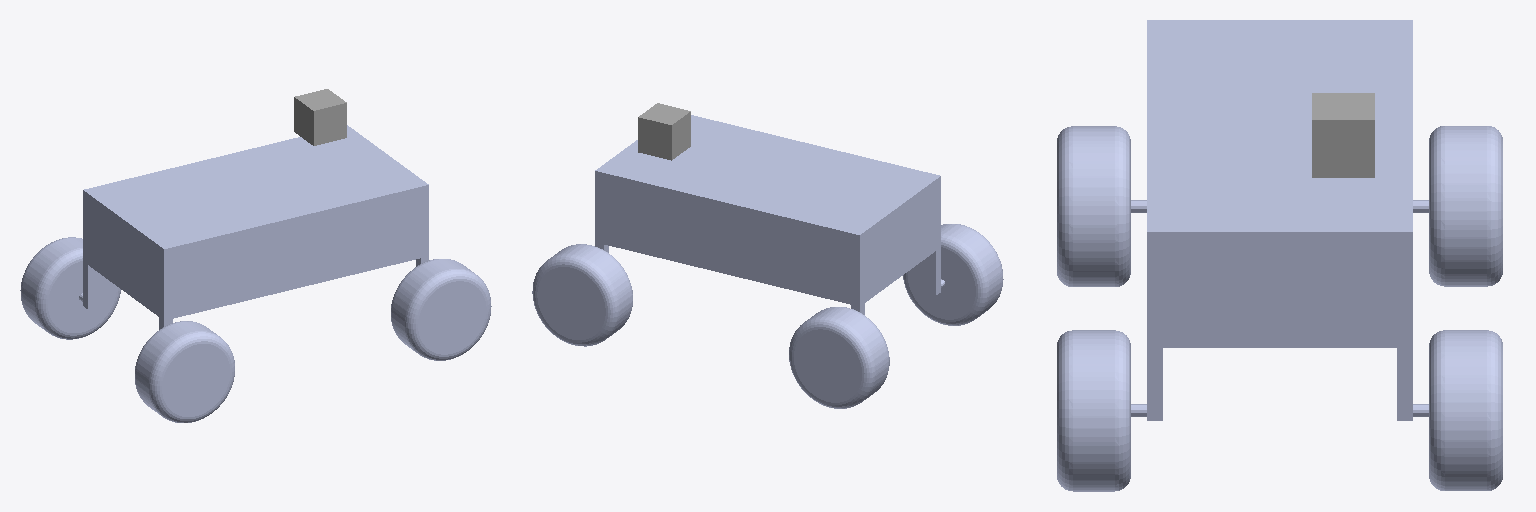
URDF robot description (rover_autonav):
<?xml version="1.0" encoding="utf-8"?>
<!-- This URDF was automatically created by SolidWorks to URDF Exporter! Originally created by [author] ([email redacted]) 
     Commit Version: 1.6.0-1-g15f4949  Build Version: 1.6.7594.29634
     For more information, please see http://wiki.ros.org/sw_urdf_exporter -->
<robot
  name="rover_autonav">
  <link
    name="base_link">
    <inertial>
      <origin
        xyz="-2.2204E-16 3.8858E-16 -0.10299"
        rpy="0 0 0" />
      <mass
        value="46" />
      <inertia
        ixx="1.2576"
        ixy="-8.9345E-15"
        ixz="1.1652E-14"
        iyy="3.7875"
        iyz="-2.6748E-15"
        izz="4.548" />
    </inertial>
    <visual>
      <origin
        xyz="0 0 0"
        rpy="0 0 0" />
      <geometry>
        <mesh
          filename="package://rover_autonav/meshes/base_link.STL" />
      </geometry>
      <material
        name="">
        <color
          rgba="0.79216 0.81961 0.93333 1" />
      </material>
    </visual>
    <collision>
      <origin
        xyz="0 0 0"
        rpy="0 0 0" />
      <geometry>
        <mesh
          filename="package://rover_autonav/meshes/base_link.STL" />
      </geometry>
    </collision>
  </link>


  <!-- BASE FOOTPRINT -->
  <link name="base_footprint">
    <visual>
        <origin xyz="0 0 0" rpy="0 0 0" />
        <geometry>
            <box size="0.001 0.001 0.001" />
        </geometry>
    </visual>
  </link>

  <joint name="base_footprint_joint" type="fixed">
    <origin xyz="0.381 0.24 0.445" rpy="0 0 0" />
    <parent link="base_footprint"/>
    <child link="base_link" />
  </joint>


  <!-- Create a dummy link as base link -->
  <!-- <link name="dummy">
	</link> 
  <joint name="dummy_joint" type="fixed">
    <parent link="dummy"/>
    <child link="base_link"/>
  </joint> -->

  <link
    name="lbacklink">
    <inertial>
      <origin
        xyz="-7.27733231620231E-07 0.05842 1.62491302746481E-06"
        rpy="0 0 0" />
      <mass
        value="1" />
      <inertia
        ixx="0.0284379209888981"
        ixy="-5.75264381966658E-17"
        ixz="-3.92244964079017E-09"
        iyy="0.0446580879636162"
        iyz="5.59109627307512E-17"
        izz="0.0284379279903993" />
    </inertial>
    <visual>
      <origin
        xyz="0 0 0"
        rpy="0 0 0" />
      <geometry>
        <mesh
          filename="package://rover_autonav/meshes/lbacklink.STL" />
      </geometry>
      <material
        name="">
        <color
          rgba="0.792156862745098 0.819607843137255 0.933333333333333 1" />
      </material>
    </visual>
    <collision>
      <origin
        xyz="0 0 0"
        rpy="0 0 0" />
      <geometry>
        <mesh
          filename="package://rover_autonav/meshes/lbacklink.STL" />
      </geometry>
    </collision>
  </link>
  <gazebo reference="lbacklink">
    <material>Gazebo/Green</material>
    <kp>1000000.0</kp> <!-- kp and kd for rubber -->
    <kd>100.0</kd>
    <mu1>1.0</mu1>
    <mu2>1.0</mu2>
    <maxVel>1.0</maxVel>
	<minDepth>0.00</minDepth>
  </gazebo>
  <joint
    name="backleft"
    type="continuous">
    <origin
      xyz="-0.38078 -0.35179 -0.31801"
      rpy="0 0 0" />
    <parent
      link="base_link" />
    <child
      link="lbacklink" />
    <axis
      xyz="0 1 0" />
    <limit
      effort="1000000"
      velocity="1000000" />
  </joint>
  <link
    name="rbacklink">
    <inertial>
      <origin
        xyz="5.02792962708831E-07 -0.05842 -1.70796289178377E-06"
        rpy="0 0 0" />
      <mass
        value="1" />
      <inertia
        ixx="0.0284379200707492"
        ixy="-5.63682702496539E-17"
        ixz="-2.84854228166472E-09"
        iyy="0.0446580879636162"
        iyz="5.62895689764963E-17"
        izz="0.0284379289085482" />
    </inertial>
    <visual>
      <origin
        xyz="0 0 0"
        rpy="0 0 0" />
      <geometry>
        <mesh
          filename="package://rover_autonav/meshes/rbacklink.STL" />
      </geometry>
      <material
        name="">
        <color
          rgba="0.792156862745098 0.819607843137255 0.933333333333333 1" />
      </material>
    </visual>
    <collision>
      <origin
        xyz="0 0 0"
        rpy="0 0 0" />
      <geometry>
        <mesh
          filename="package://rover_autonav/meshes/rbacklink.STL" />
      </geometry>
    </collision>
  </link>
  <gazebo reference="rbacklink">
    <material>Gazebo/Blue</material>
    <kp>1000000.0</kp> <!-- kp and kd for rubber -->
    <kd>100.0</kd>
    <mu1>1.0</mu1>
    <mu2>1.0</mu2>
    <maxVel>1.0</maxVel>
	<minDepth>0.00</minDepth>
  </gazebo>
  <joint
    name="backright"
    type="continuous">
    <origin
      xyz="-0.38115 0.35179 -0.31701"
      rpy="0 0 0" />
    <parent
      link="base_link" />
    <child
      link="rbacklink" />
    <axis
      xyz="0 1 0" />
    <limit
      effort="1000000"
      velocity="1000000" />
  </joint>
  <link
    name="lfrontlink">
    <inertial>
      <origin
        xyz="7.29369893370801E-08 0.05842 1.77893737907109E-06"
        rpy="0 0 0" />
      <mass
        value="1" />
      <inertia
        ixx="0.0284379192498368"
        ixy="-5.69933931600498E-17"
        ixz="4.30391359396819E-10"
        iyy="0.0446580879636162"
        iyz="5.89209747200998E-17"
        izz="0.0284379297294607" />
    </inertial>
    <visual>
      <origin
        xyz="0 0 0"
        rpy="0 0 0" />
      <geometry>
        <mesh
          filename="package://rover_autonav/meshes/lfrontlink.STL" />
      </geometry>
      <material
        name="">
        <color
          rgba="0.792156862745098 0.819607843137255 0.933333333333333 1" />
      </material>
    </visual>
    <collision>
      <origin
        xyz="0 0 0"
        rpy="0 0 0" />
      <geometry>
        <mesh
          filename="package://rover_autonav/meshes/lfrontlink.STL" />
      </geometry>
    </collision>
  </link>
  <gazebo reference="lfrontlink">
    <material>Gazebo/Red</material>
    <kp>1000000.0</kp> <!-- kp and kd for rubber -->
    <kd>100.0</kd>
    <mu1>1.0</mu1>
    <mu2>1.0</mu2>
    <maxVel>1.0</maxVel>
	<minDepth>0.00</minDepth>
  </gazebo>
  <joint
    name="frontleft"
    type="continuous">
    <origin
      xyz="0.38098 -0.35179 -0.31805"
      rpy="0 0 0" />
    <parent
      link="base_link" />
    <child
      link="lfrontlink" />
    <axis
      xyz="0 1 0" />
    <limit
      effort="1000000"
      velocity="1000000" />
  </joint>
  <link
    name="rfrontlink">
    <inertial>
      <origin
        xyz="-1.66413693092338E-06 -0.0584199999999999 -6.32918855159037E-07"
        rpy="0 0 0" />
      <mass
        value="1" />
      <inertia
        ixx="0.0284379284183329"
        ixy="-5.64546623366554E-17"
        ixz="3.49375254610767E-09"
        iyy="0.0446580879636162"
        iyz="5.51053175905783E-17"
        izz="0.0284379205609646" />
    </inertial>
    <visual>
      <origin
        xyz="0 0 0"
        rpy="0 0 0" />
      <geometry>
        <mesh
          filename="package://rover_autonav/meshes/rfrontlink.STL" />
      </geometry>
      <material
        name="">
        <color
          rgba="0.792156862745098 0.819607843137255 0.933333333333333 1" />
      </material>
    </visual>
    <collision>
      <origin
        xyz="0 0 0"
        rpy="0 0 0" />
      <geometry>
        <mesh
          filename="package://rover_autonav/meshes/rfrontlink.STL" />
      </geometry>
    </collision>
  </link>
  <gazebo reference="rfrontlink">
    <material>Gazebo/Grey</material>
    <kp>1000000.0</kp> <!-- kp and kd for rubber -->
    <kd>100.0</kd>
    <mu1>1.0</mu1>
    <mu2>1.0</mu2>
    <maxVel>1.0</maxVel>
	<minDepth>0.00</minDepth>
  </gazebo>
  <joint
    name="frontright"
    type="continuous">
    <origin
      xyz="0.3815 0.35179 -0.31733"
      rpy="0 0 0" />
    <parent
      link="base_link" />
    <child
      link="rfrontlink" />
    <axis
      xyz="0 1 0" />
    <limit
      effort="1000000"
      velocity="1000000" />
  </joint>


  <!-- Hokuyo Laser-->
  <joint name="hokuyo_joint" type="fixed">
      <axis xyz="0 1 0" />
      <origin xyz="0.35 0 0.02" rpy="0 0 0"/>
      <parent link="base_link"/>
      <child link="hokuyo_link"/>
  </joint>

  <link name="hokuyo_link">
    <collision>
      <origin xyz="0 0 0.05" rpy="0 0 0"/>
      <geometry>
        <box size="0.1 0.1 0.1"/>
      </geometry>
    </collision>

    <visual>
      <origin xyz="0 0 0" rpy="0 0 0"/>
      <geometry>
        <mesh filename="package://rover_control/meshes/hokuyo.dae"/>
      </geometry>
    </visual>

    <inertial>
      <mass value="1e-5" />
      <origin xyz="0 0 0" rpy="0 0 0"/>
      <inertia ixx="1e-6" ixy="0" ixz="0" iyy="1e-6" iyz="0" izz="1e-6" />
    </inertial>
  </link>
  <gazebo reference="hokuyo_link">
    <material>Gazebo/Yellow</material>
  </gazebo>


  <gazebo reference="hokuyo_link">
    <sensor type="ray" name="head_hokuyo_sensor">
      <pose>0 0 0 0 0 0</pose>
      <visualize>true</visualize>
      <update_rate>100</update_rate>
      <ray>
        <scan>
          <horizontal>
            <samples>360</samples>
            <resolution>1</resolution>
            <min_angle>-1.57</min_angle>
            <max_angle>1.57</max_angle>
          </horizontal>
        </scan>
        <range>
          <min>0.10</min>
          <max>20</max>
          <resolution>0.01</resolution>
        </range>
        <noise>
          <type>gaussian</type>
          <!-- Noise parameters based on published spec for Hokuyo laser
               achieving "+-30mm" accuracy at range < 10m.  A mean of 0.0m and
               stddev of 0.01m will put 99.7% of samples within 0.03m of the true
               reading. -->
          <mean>0.0</mean>
          <stddev>0.01</stddev>
        </noise>
      </ray>
      <plugin name="gazebo_ros_head_hokuyo_controller" filename="libgazebo_ros_laser.so">
        <topicName>/scan</topicName>
        <frameName>hokuyo_link</frameName>
      </plugin>
    </sensor>
  </gazebo>


  <!-- Camera-->
  <joint name="camera_joint" type="fixed">
    <axis xyz="0 1 0" />
    <origin xyz="0.25 0.1 0.1" rpy="0 0 0"/>
    <parent link="base_link"/>
    <child link="camera_link"/>
  </joint>

  <link name="camera_link">
    <collision>
      <origin xyz="0 0 0" rpy="0 0 0"/>
      <geometry>
        <box size="0.05 0.05 0.05"/>
      </geometry>
    </collision>

    <visual>
      <origin xyz="0 0 0" rpy="0 0 0"/>
      <geometry>
        <box size="0.1 0.1 0.1"/>
      </geometry>
      <material name="red"/>
    </visual>

    <inertial>
      <mass value="1e-5" />
      <origin xyz="0 0 0" rpy="0 0 0"/>
      <inertia ixx="1e-6" ixy="0" ixz="0" iyy="1e-6" iyz="0" izz="1e-6" />
    </inertial>
  </link>
  <gazebo reference="camera_link">
    <material>Gazebo/Red</material>
  </gazebo>

  <gazebo reference="camera_link">
    <sensor name="kinect_camera" type="depth">
      <update_rate>20</update_rate>
      <camera>
        <horizontal_fov>1.047198</horizontal_fov>
        <image>
          <width>640</width>
          <height>480</height>
          <format>R8G8B8</format>
        </image>
        <clip>
          <near>0.05</near>
          <far>3</far>
        </clip>
      </camera>
      <plugin name="camera_link_controller" filename="libgazebo_ros_openni_kinect.so">
        <baseline>0.2</baseline>
        <alwaysOn>true</alwaysOn>
        <updateRate>1.0</updateRate>
        <cameraName>camera_link_ir</cameraName>
        <imageTopicName>/camera_link/color/image_raw</imageTopicName>
        <cameraInfoTopicName>/camera_link/color/camera_info</cameraInfoTopicName>
        <depthImageTopicName>/camera_link/depth/image_raw</depthImageTopicName>
        <depthImageInfoTopicName>/camera_link/depth/camera_info</depthImageInfoTopicName>
        <pointCloudTopicName>/camera_link/depth/points</pointCloudTopicName>
        <frameName>camera_link</frameName>
        <pointCloudCutoff>0.5</pointCloudCutoff>
        <pointCloudCutoffMax>3.0</pointCloudCutoffMax>
        <distortionK1>0.00000001</distortionK1>
        <distortionK2>0.00000001</distortionK2>
        <distortionK3>0.00000001</distortionK3>
        <distortionT1>0.00000001</distortionT1>
        <distortionT2>0.00000001</distortionT2>
        <CxPrime>0</CxPrime>
        <Cx>0</Cx>
        <Cy>0</Cy>
        <focalLength>0</focalLength>
        <hackBaseline>0</hackBaseline>
      </plugin>
    </sensor>
  </gazebo>

  <!--Skid Steer Drive Controller-->
  <gazebo>
	  <plugin name="skid_steer_drive_controller" filename="libgazebo_ros_skid_steer_drive.so">
	    <updateRate>10.0</updateRate>
        <robotNamespace>/</robotNamespace>
	    <leftFrontJoint>frontright</leftFrontJoint>
	    <rightFrontJoint>frontleft</rightFrontJoint>
	    <leftRearJoint>backright</leftRearJoint>
	    <rightRearJoint>backleft</rightRearJoint>
	    <wheelSeparation>0.762</wheelSeparation>
	    <wheelDiameter>0.254</wheelDiameter>
	    <robotBaseFrame>base_footprint</robotBaseFrame>
	    <torque>100</torque> <!--can start rotating base at torque > & == 50-->
	    
        <topicName>cmd_vel</topicName>
        <odometryTopic>odom</odometryTopic>
        <odometryFrame>odom</odometryFrame>

        <commandTopic>cmd_vel</commandTopic>
        <topic_name_twist>cmd_vel</topic_name_twist>
        <topic_name_odometry>odom</topic_name_odometry>
        <topic_name_joint>joint</topic_name_joint>
	    
        <publishOdom>true</publishOdom>
	    <broadcastTF>true</broadcastTF>

	    <covariance_x>0.0001</covariance_x>
	    <covariance_y>0.0001</covariance_y>
	    <covariance_yaw>0.01</covariance_yaw>
	  </plugin>
	</gazebo>


<!-- IMU Plugin -->
  <gazebo>
    <plugin name="imu_plugin" filename="libgazebo_ros_imu.so">
      <alwaysOn>true</alwaysOn>
      <bodyName>base_link</bodyName>
      <topicName>imu</topicName>
      <serviceName>imu_service</serviceName>
      <gaussianNoise>0.1</gaussianNoise>
      <updateRate>20.0</updateRate>
    </plugin>
  </gazebo>
  <gazebo>
    <plugin name="gazebo_ros_control" filename="libgazebo_ros_control.so">
      <robotNamespace>rover_autonav</robotNamespace>
      <robotSimType>gazebo_ros_control/DefaultRobotHWSim</robotSimType>
    </plugin>
  </gazebo>

  <!-- Rear wheels transmission -->

  <transmission name="rear_left_wheel">
      <type>transmission_interface/SimpleTransmission</type>
      <joint name="backleft">
          <hardwareInterface>hardware_interface/EffortJointInterface</hardwareInterface>
      </joint>
      <actuator name="motor_rear_left_wheel">
          <hardwareInterface>hardware_interface/EffortJointInterface</hardwareInterface>
          <mechanicalReduction>1</mechanicalReduction>
      </actuator>
  </transmission>

  <transmission name="rear_right_wheel">
      <type>transmission_interface/SimpleTransmission</type>
      <joint name="backright">
          <hardwareInterface>hardware_interface/EffortJointInterface</hardwareInterface>
      </joint>
      <actuator name="motor_rear_right_wheel">
          <hardwareInterface>hardware_interface/EffortJointInterface</hardwareInterface>
          <mechanicalReduction>1</mechanicalReduction>
      </actuator>
  </transmission>

  <!-- Front wheels transmission -->

  <transmission name="front_left_wheel">
      <type>transmission_interface/SimpleTransmission</type>
      <joint name="frontleft">
          <hardwareInterface>hardware_interface/EffortJointInterface</hardwareInterface>
      </joint>
      <actuator name="motor_front_left_wheel">
          <hardwareInterface>hardware_interface/EffortJointInterface</hardwareInterface>
          <mechanicalReduction>1</mechanicalReduction>
      </actuator>
  </transmission>

  <transmission name="front_right_wheel">
      <type>transmission_interface/SimpleTransmission</type>
      <joint name="frontright">
          <hardwareInterface>hardware_interface/EffortJointInterface</hardwareInterface>
      </joint>
      <actuator name="motor_front_right_wheel">
          <hardwareInterface>hardware_interface/EffortJointInterface</hardwareInterface>
          <mechanicalReduction>1</mechanicalReduction>
      </actuator>
  </transmission>

</robot>

--- Facts derived from the render (not from the file) ---
Views: 3 orthographic renders of the robot side by side, from view 1: azimuth 30°, elevation 25°; view 2: azimuth 150°, elevation 25°; view 3: azimuth 270°, elevation 25°.
Model rover_autonav with 8 links and 7 joints (4 continuous, 3 fixed), rooted at base_footprint, posed all joints at 0.
Links seen in each view (by area): view 1: base_link, lfrontlink, lbacklink, rbacklink, camera_link; view 2: base_link, rbacklink, rfrontlink, lbacklink, camera_link; view 3: base_link, lfrontlink, lbacklink, rfrontlink, rbacklink, camera_link.
Boxes of the visible links, x1,y1,x2,y2 form: base_link: (79,125,455,383); lfrontlink: (391,259,491,360); lbacklink: (135,321,234,422); rbacklink: (20,237,120,339); camera_link: (294,89,346,145); base_link: (568,115,944,369); rbacklink: (789,307,889,408); rfrontlink: (532,244,632,346); lbacklink: (903,224,1003,325); camera_link: (638,103,690,160); base_link: (1131,20,1428,420); lfrontlink: (1057,330,1130,491); lbacklink: (1057,126,1130,286); rfrontlink: (1429,330,1502,490); rbacklink: (1429,126,1502,286); camera_link: (1312,93,1374,177).
Bounding box of the posed robot: 1.02 × 0.7036 × 0.5955 m (x, y, z).
Meshes: 6 distinct files referenced, 5 mesh visuals loaded (5 binary STL); not drawn: 1 (reference not matched to a file when rendering).
